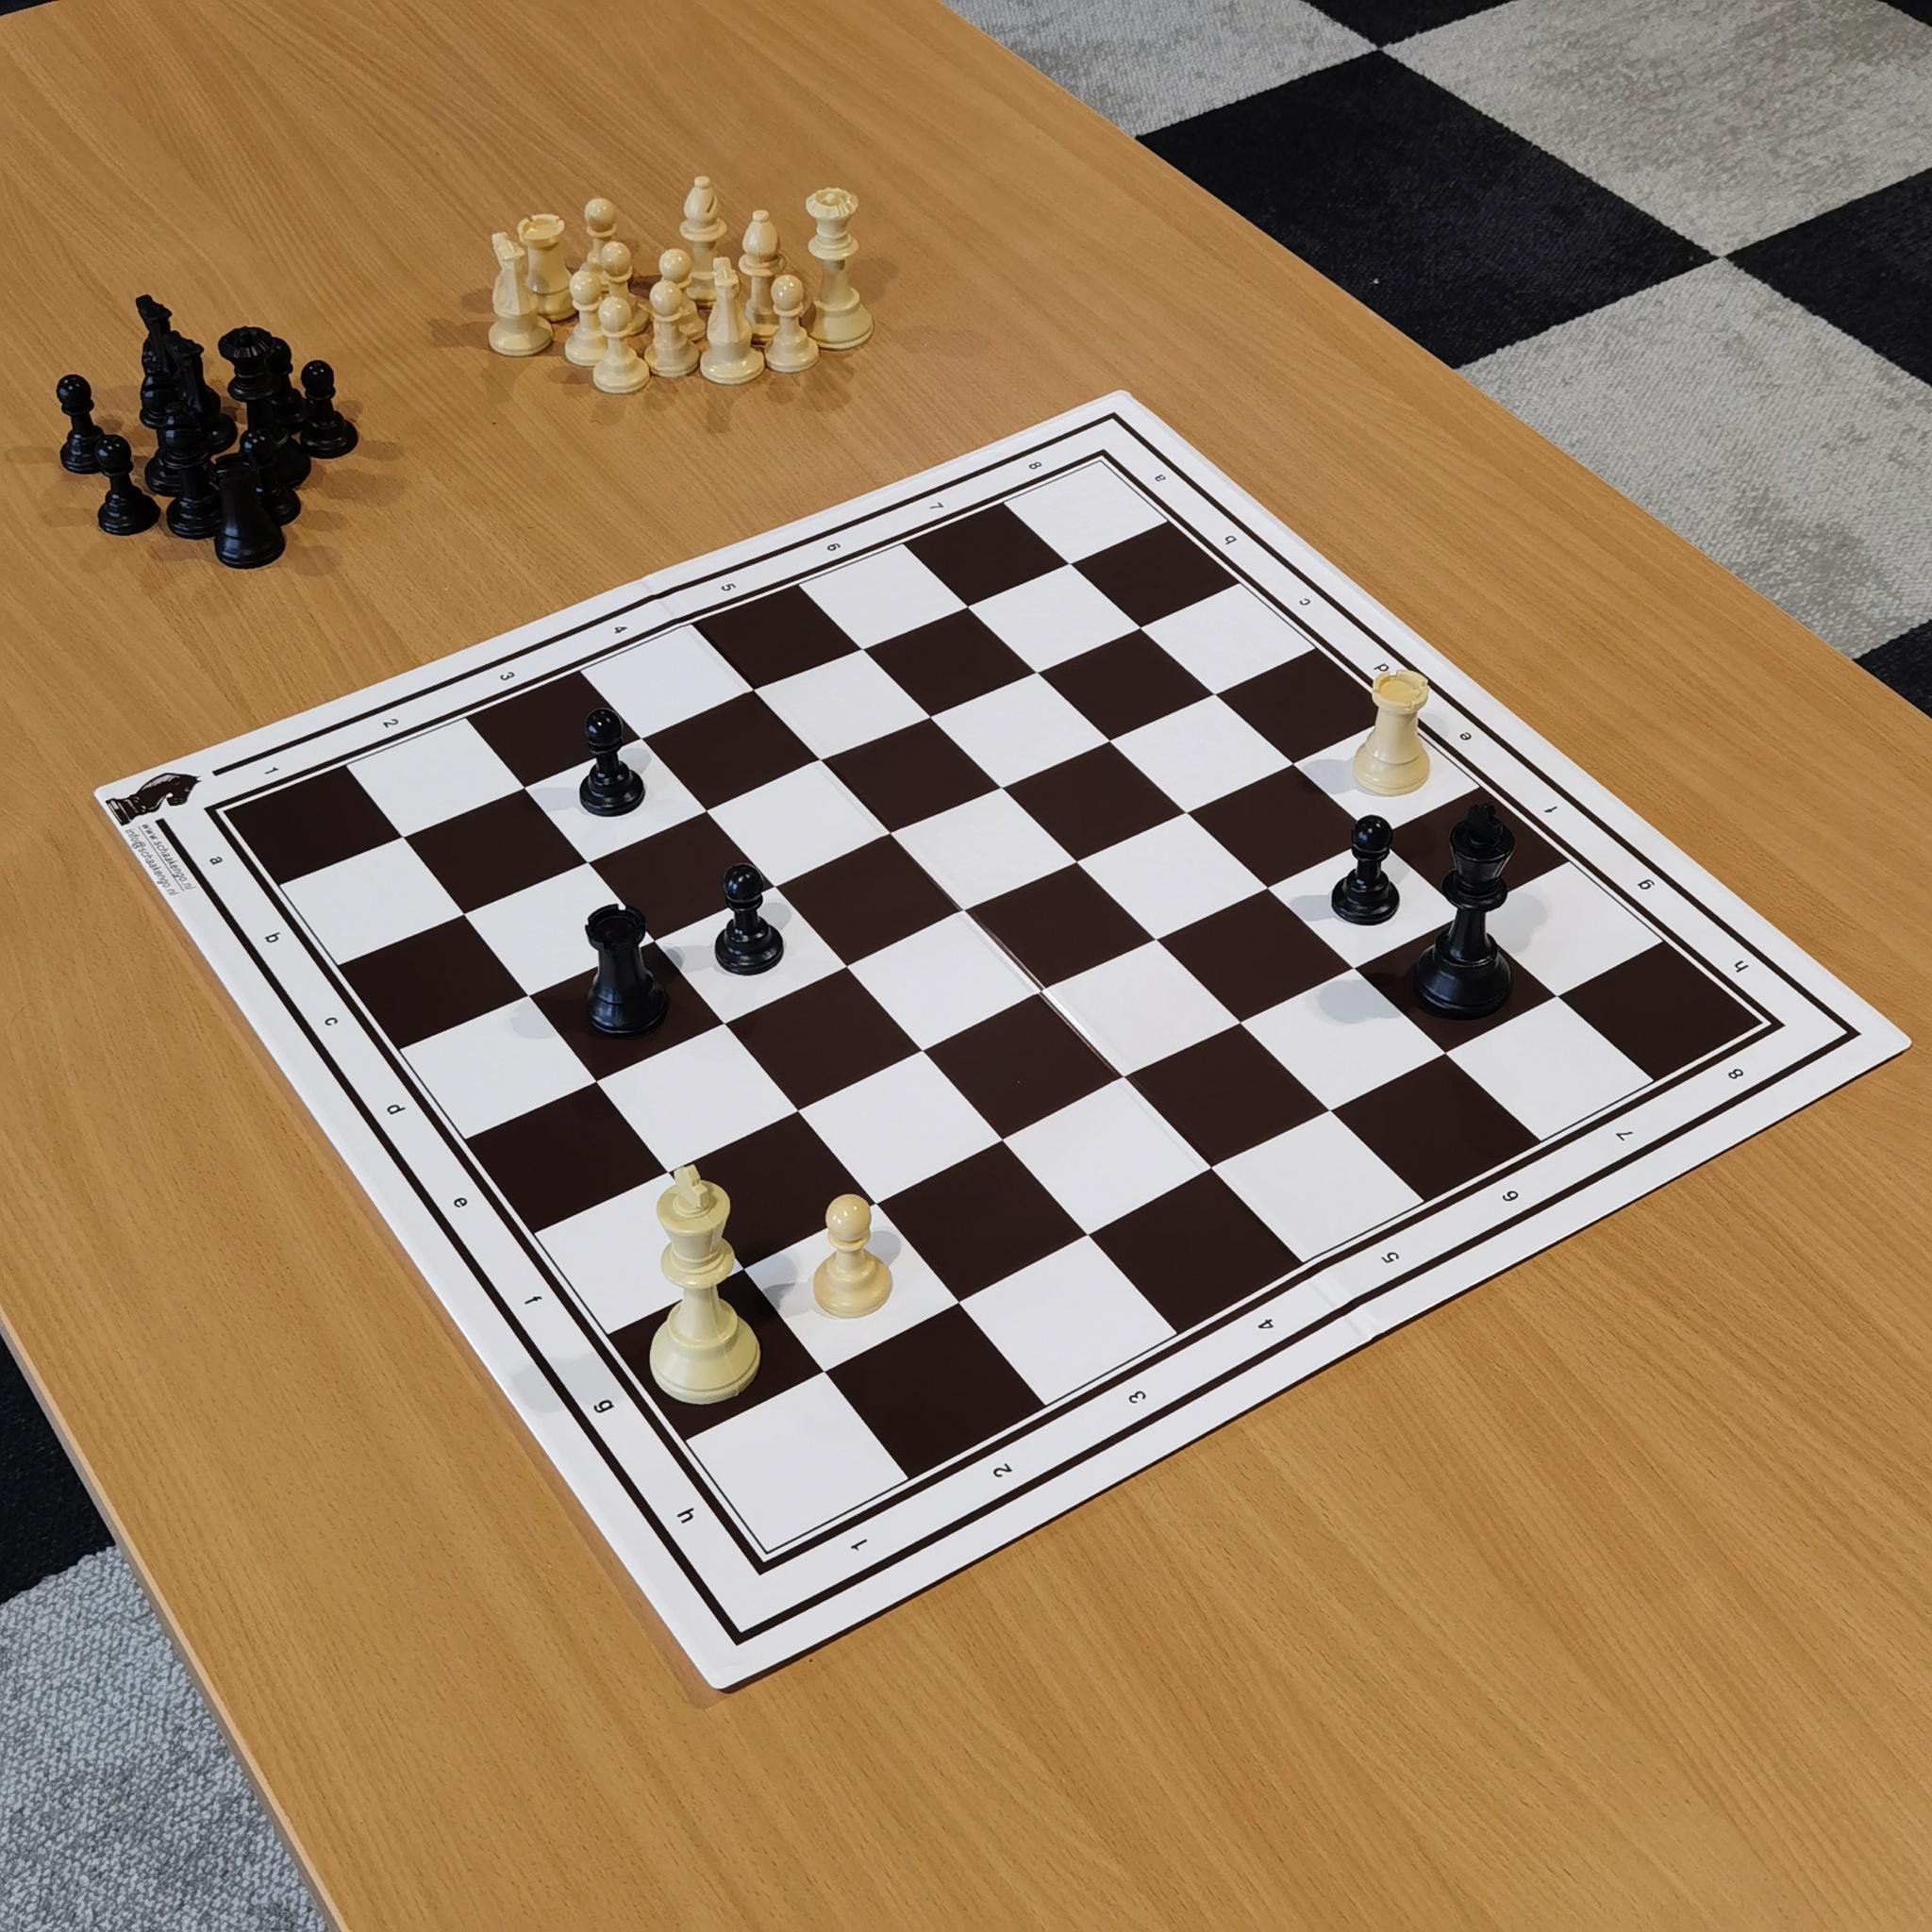corners: (732, 1536, 793, 1594), (1746, 1003, 1808, 1049), (191, 798, 251, 844), (1077, 441, 1129, 485)
eight: (1714, 1047, 1760, 1100), (1017, 441, 1060, 481)
one: (828, 1520, 893, 1576), (255, 747, 299, 794)
